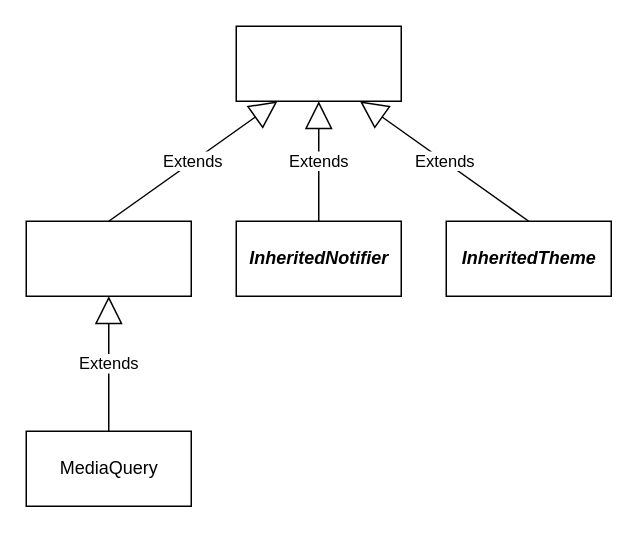
Image size: 638x533. Some labels were removed from this diagram. The shapes that lost their labels are listed below. From the top down, each one's centre as x and y in pixels, then its label:
pixel 318 63: InheritedWidget
pixel 108 258: InheritedModel
